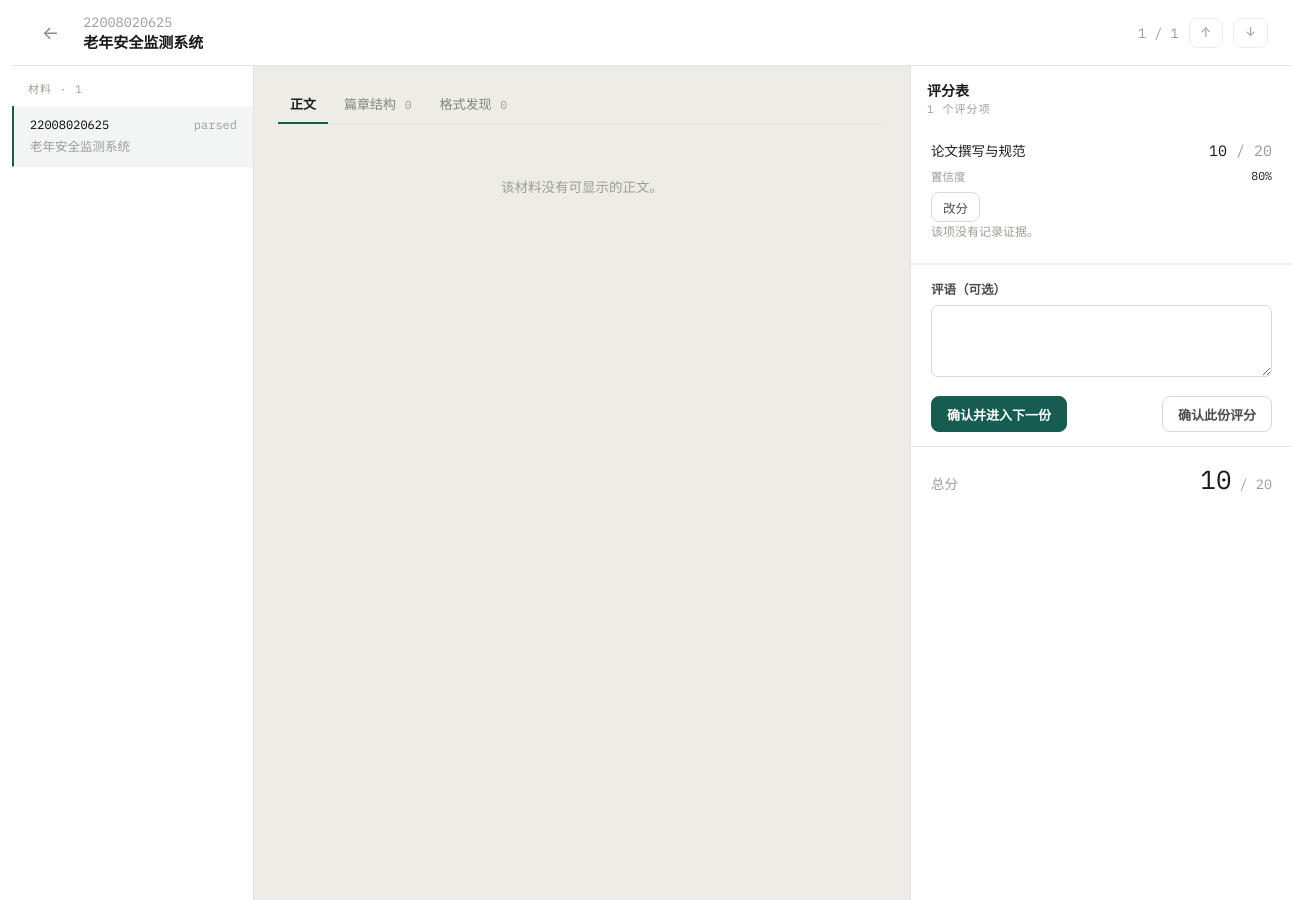
Test: 改分失败的提示出现在「保存」旁边，并且是中文
This screenshot has width=1292, height=900.
Click the button with class "edit-trigger": [956, 207] box [931,192,980,222]
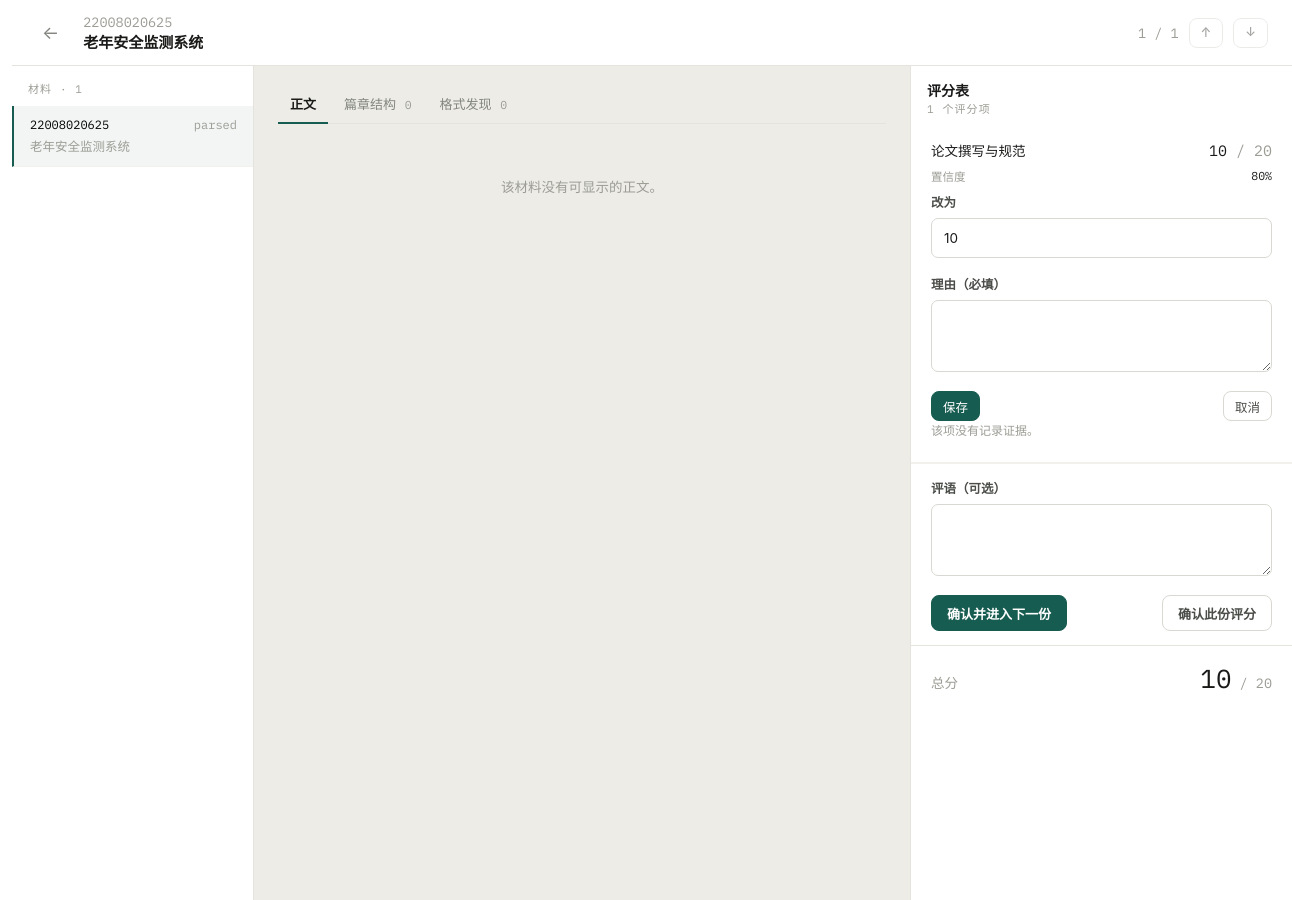
In the text box labelled "理由（必填）": [1102, 336] box [931,300,1272,372], type "复核后调整"
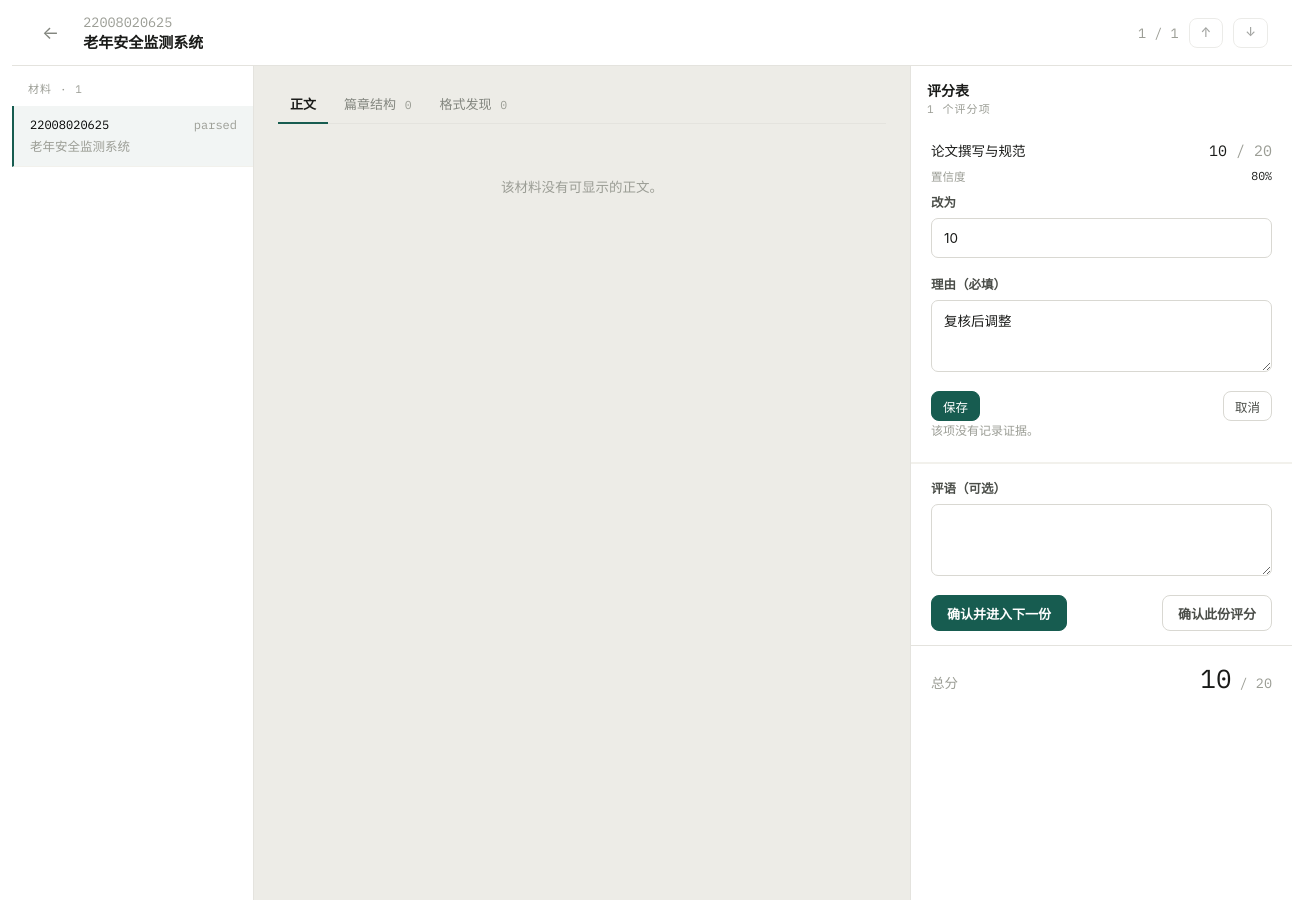
Click the button "保存": [956, 406] box [931,391,980,421]
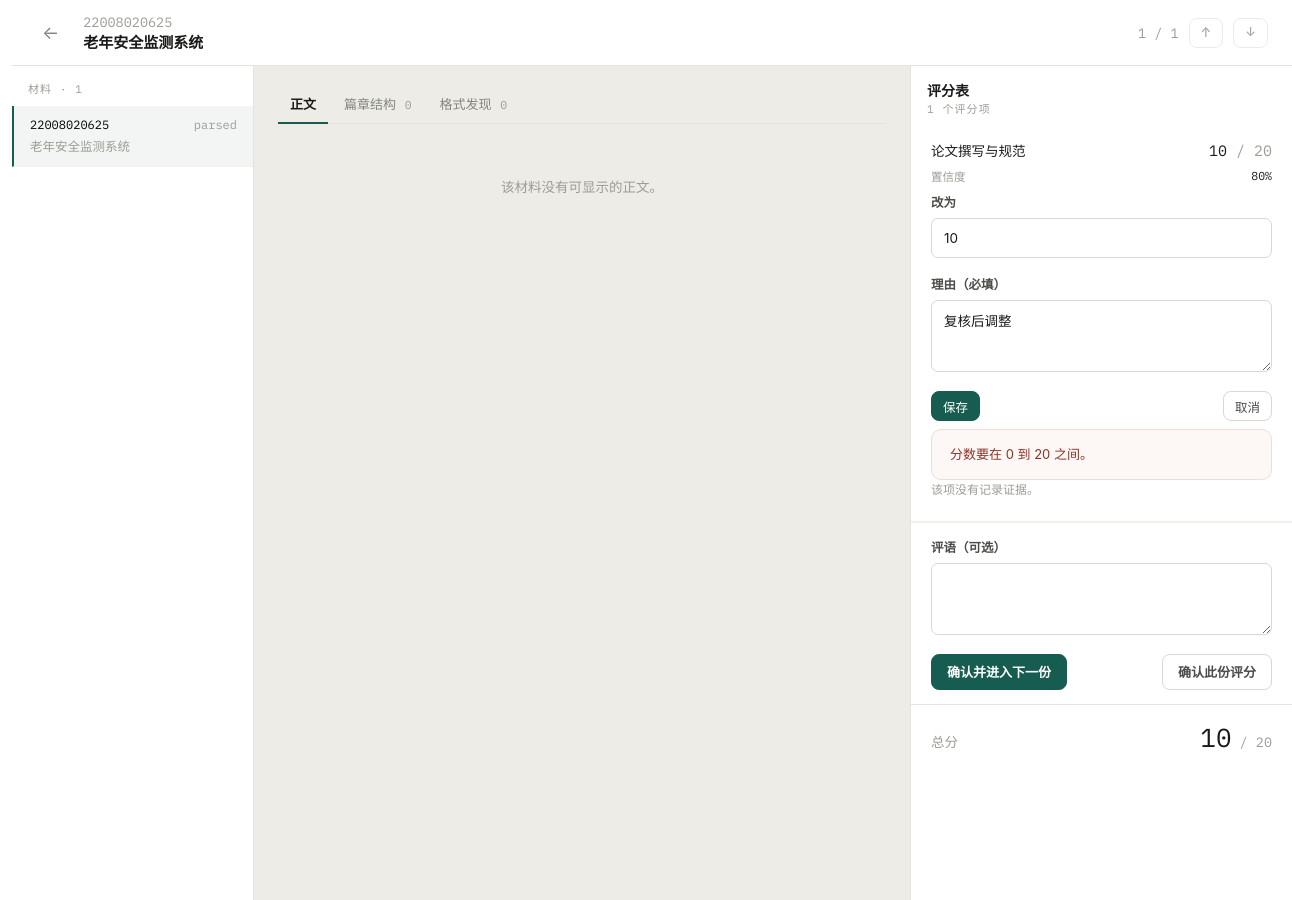
Expected: the message with test id "edit-error" reads "分数要在 0 到 20 之间。", [950,446,1093,462]
